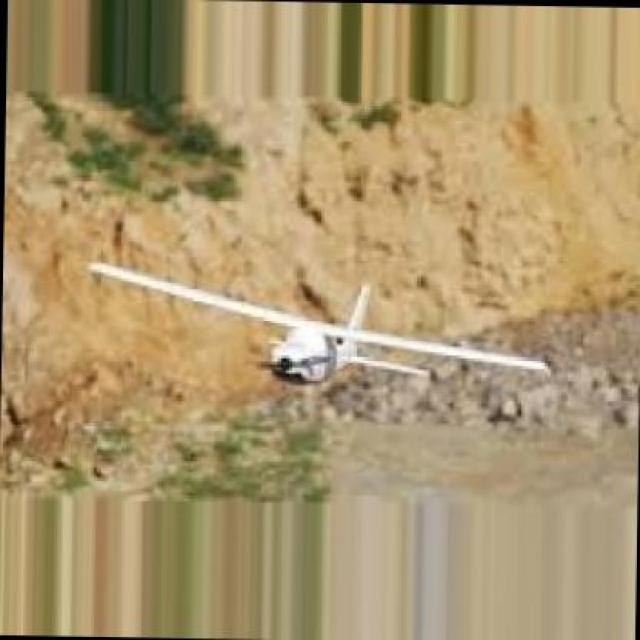iha: (99, 244, 553, 397)
